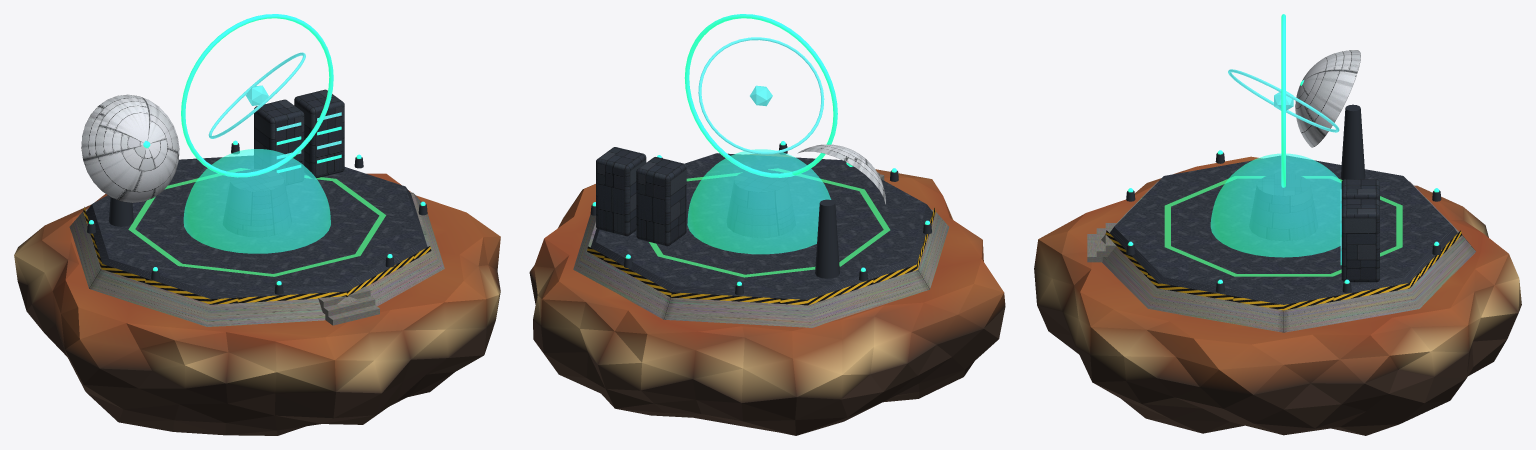
The model's file is sonar-L100.glb.
3 renders of one model, left to right at view 1: azimuth 30°, elevation 25°; view 2: azimuth 150°, elevation 25°; view 3: azimuth 270°, elevation 25°, orthographic.
Parts seen in each view (by area): view 1: object 1, object 4, object 27, object 2, anim:yaw, object 28, anim:rings, object 32, object 37, object 3, object 5, object 30 (+2 smaller); view 2: object 1, object 4, object 27, object 2, object 32, anim:rings, object 28, object 37, object 3, object 5, object 30, anim:yaw; view 3: object 1, object 4, object 27, object 2, object 28, anim:yaw, object 37, object 3, anim:rings, object 5, object 30, object 32.
Boxes of the visible parts, x1,y1,x2,y2 form: object 1: (14,173,500,435); object 4: (86,155,427,299); object 27: (183,149,330,253); object 2: (69,192,444,326); anim:yaw: (81,94,179,202); object 28: (223,169,291,236); anim:rings: (181,14,333,177); object 32: (254,99,304,185); object 37: (294,89,344,178); object 3: (83,207,431,304); object 5: (128,168,385,276); object 30: (109,197,133,226); object 1: (529,153,1005,435); object 4: (590,153,932,299); object 27: (687,149,830,254); object 2: (573,209,949,328); object 32: (636,157,686,246); anim:rings: (684,14,837,177); object 28: (727,169,795,237); object 37: (596,147,646,236); object 3: (587,207,935,305); object 5: (649,168,890,277); object 30: (815,199,839,278); anim:yaw: (797,144,885,204); object 1: (1034,156,1521,435); object 4: (1110,155,1457,304); object 27: (1210,153,1341,257); object 2: (1101,181,1475,332); object 28: (1249,174,1317,240); anim:yaw: (1295,50,1360,147); object 37: (1341,198,1379,282); object 3: (1105,230,1461,310); anim:rings: (1228,14,1339,187); object 5: (1164,176,1402,276); object 30: (1340,104,1365,180); object 32: (1341,179,1379,200).
Bounding box in the file's own units: 6.29 × 5.11 × 6.33.
Materials: 12 (5 with a texture image).
